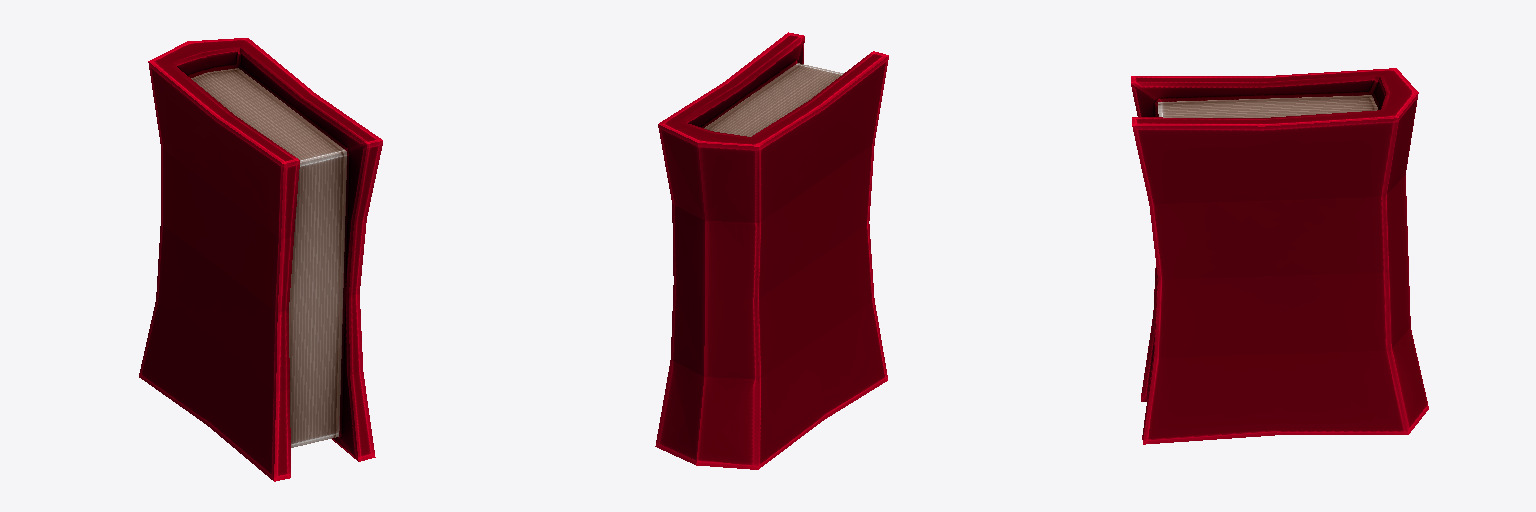
3 renders of one model, left to right at view 1: azimuth 30°, elevation 25°; view 2: azimuth 150°, elevation 25°; view 3: azimuth 270°, elevation 25°, orthographic.
Visible parts, largest first — view 1: Book_Low, textureEditorIsolateSelectSet; view 2: Book_Low, textureEditorIsolateSelectSet; view 3: Book_Low, textureEditorIsolateSelectSet.
Boxes of the visible parts, <box> form: Book_Low: <box>139,38,382,481</box>; textureEditorIsolateSelectSet: <box>191,68,346,447</box>; Book_Low: <box>655,32,888,469</box>; textureEditorIsolateSelectSet: <box>704,63,843,136</box>; Book_Low: <box>1131,68,1428,444</box>; textureEditorIsolateSelectSet: <box>1158,95,1377,117</box>.
Bounding box in the file's own units: 0.3095 × 0.9025 × 0.7447.
Materials: 1 (1 with a texture image).